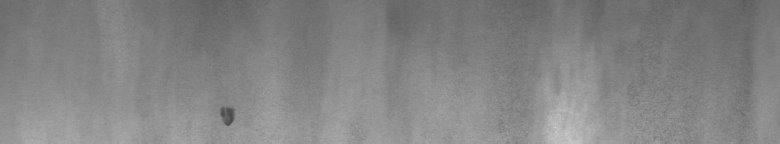fi: (216, 100, 240, 132)
